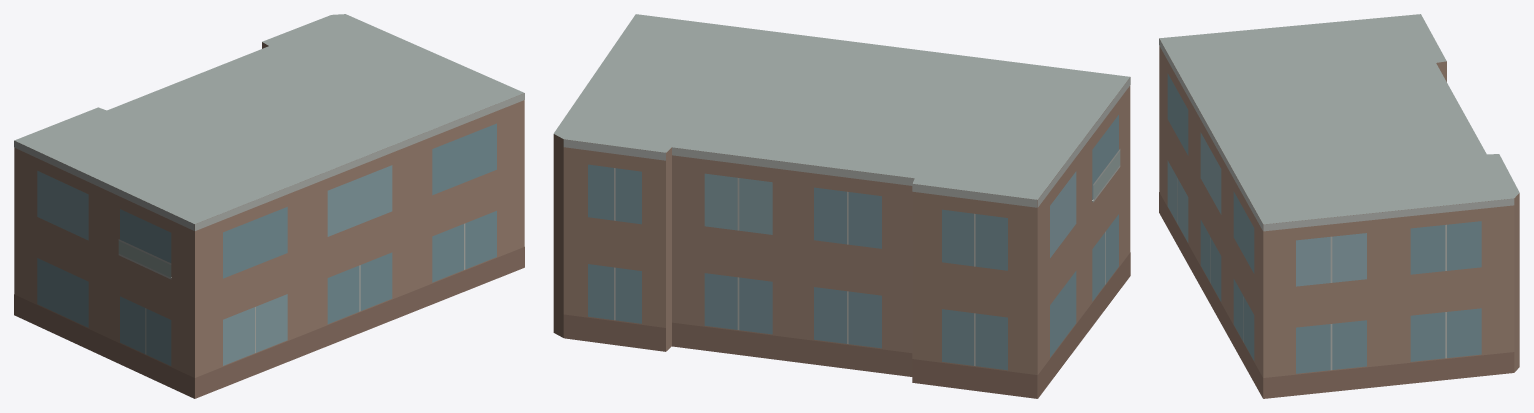
File: survey-upis-32583024.glb
The picture shows the model from 3 angles, left to right: view 1: azimuth 30°, elevation 25°; view 2: azimuth 150°, elevation 25°; view 3: azimuth 270°, elevation 25°; orthographic projection. The views are drawn at different scales.
Visible parts, largest first — view 1: survey-upis-32583024.tmp; view 2: survey-upis-32583024.tmp; view 3: survey-upis-32583024.tmp.
Part boxes in pixels (box(x1,y1,x2,y2)): survey-upis-32583024.tmp: box(14, 14, 524, 398); survey-upis-32583024.tmp: box(553, 14, 1130, 398); survey-upis-32583024.tmp: box(1159, 14, 1519, 398).
Bounding box in the file's own units: 15.79 × 6.1 × 11.44.
